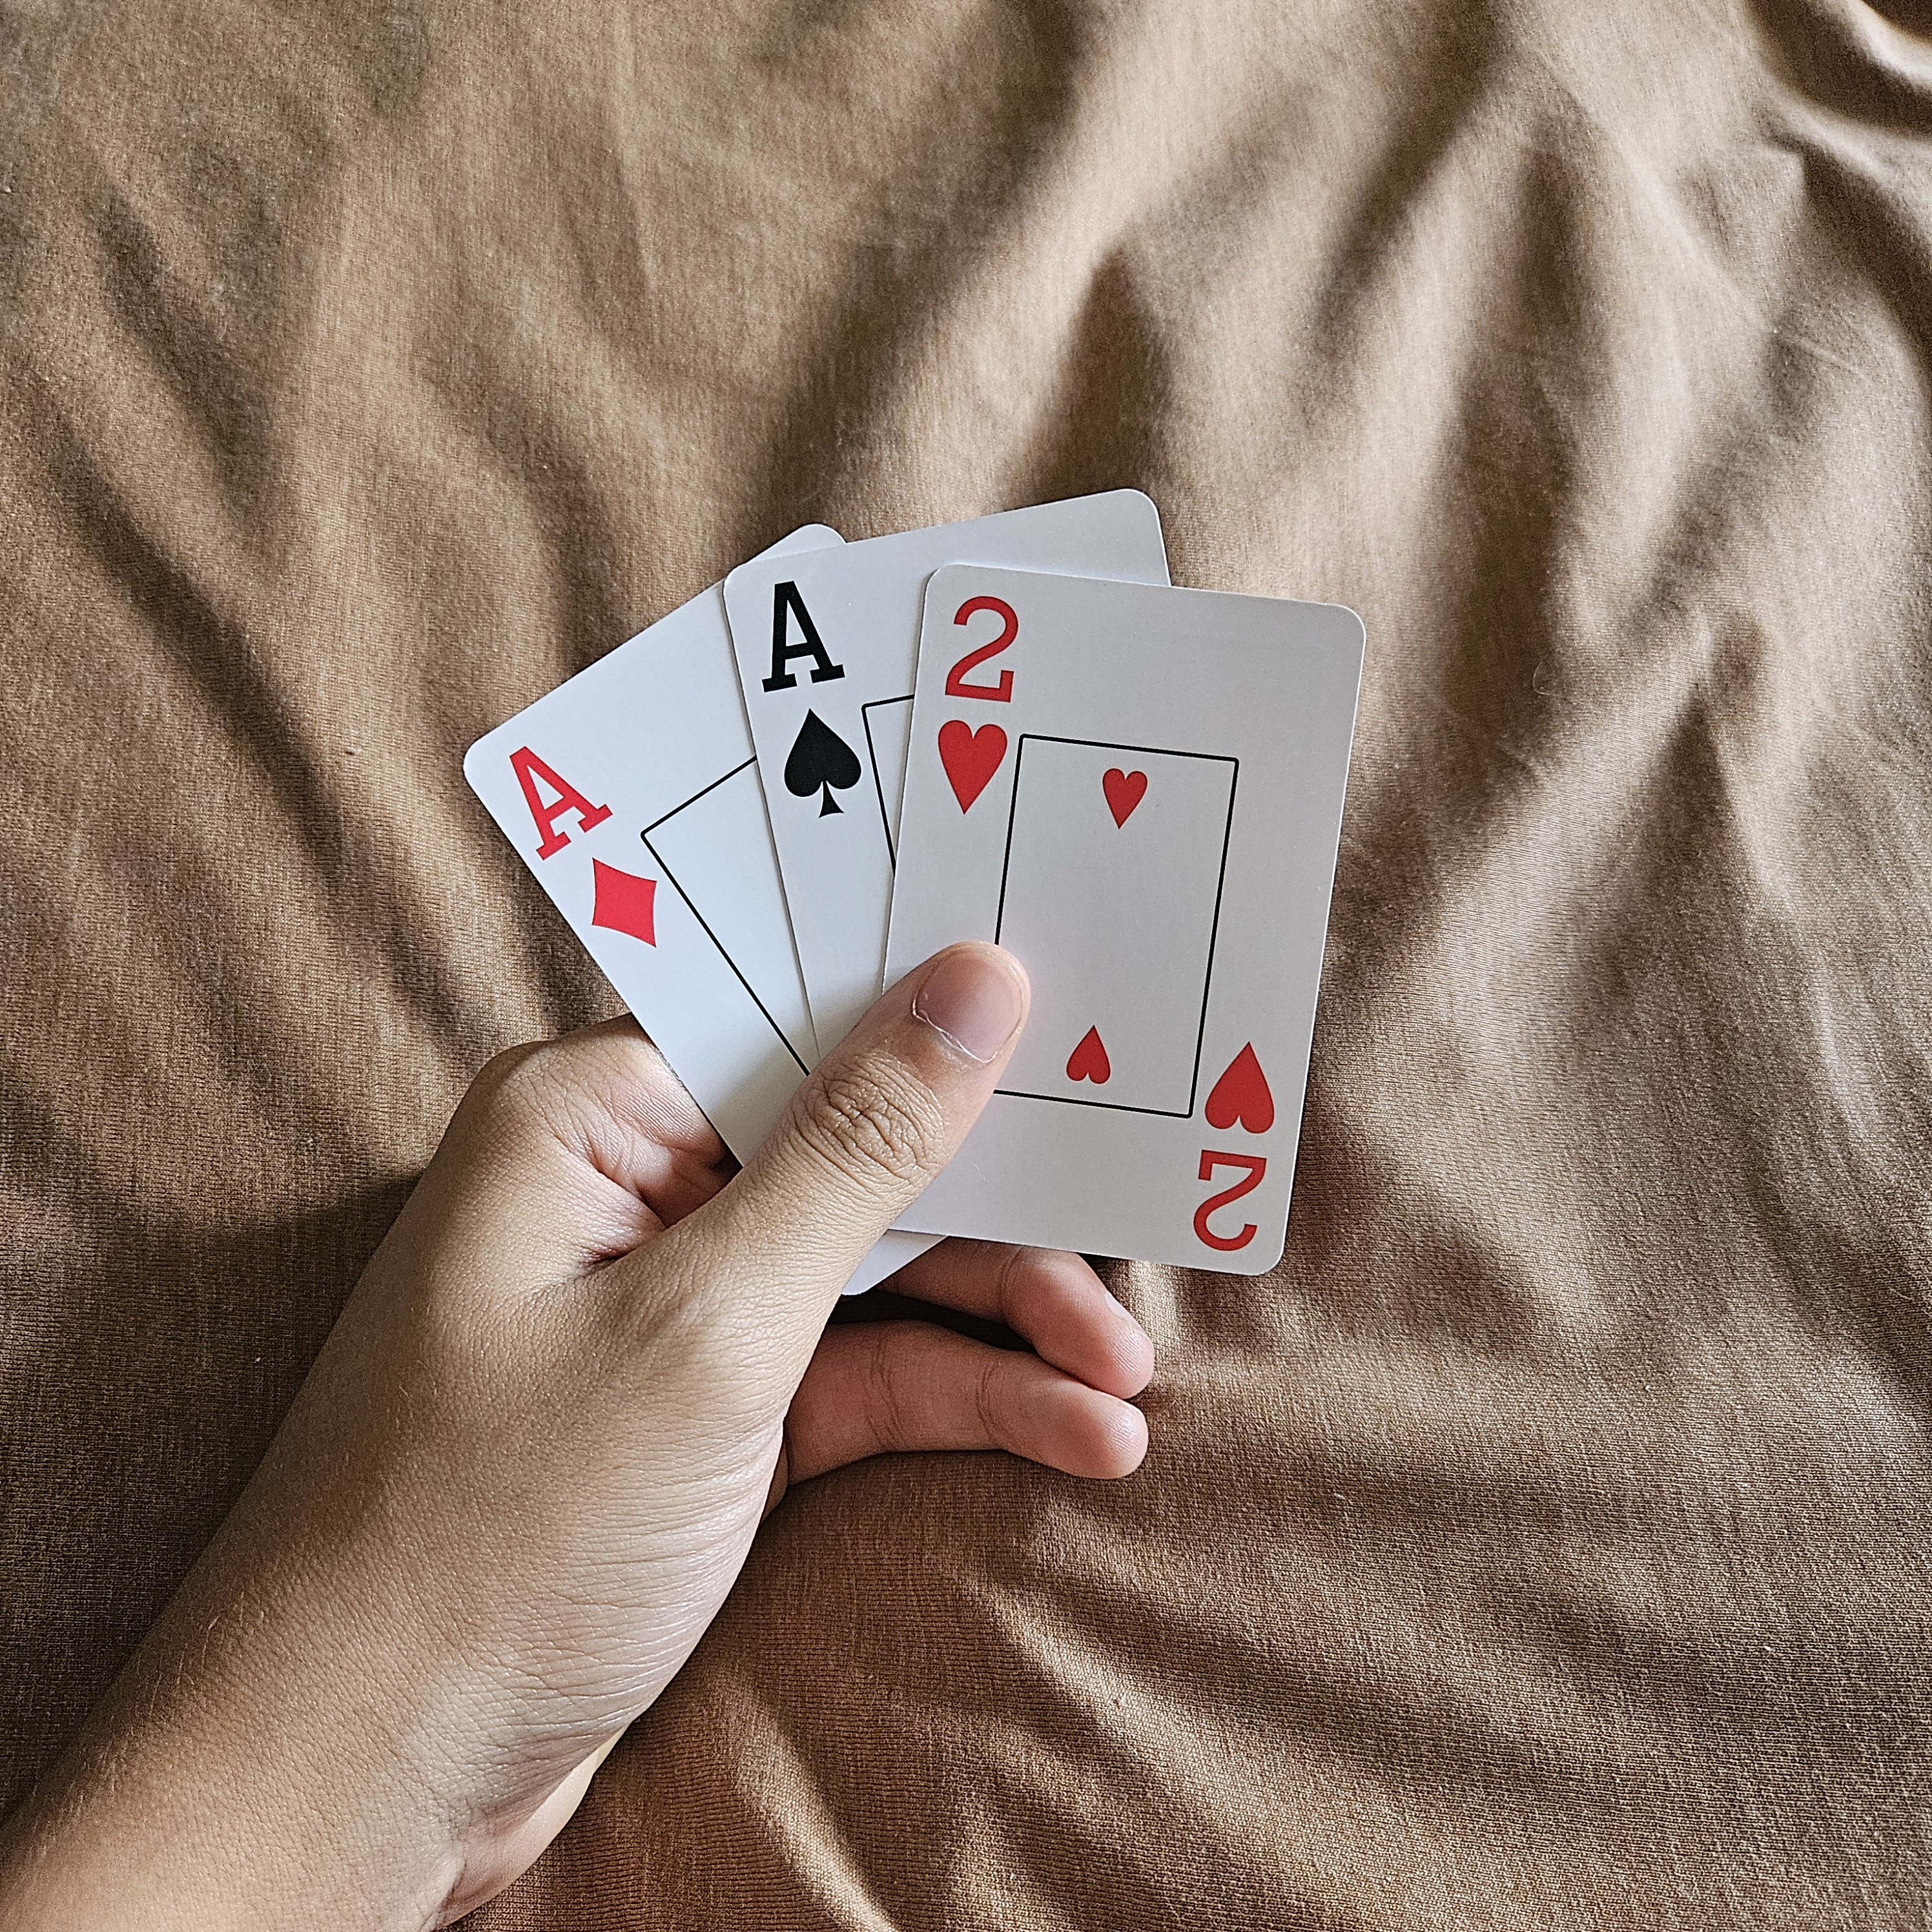2C: (924, 568, 1035, 824), (1180, 1028, 1292, 1258)
AE: (741, 561, 893, 832)
AO: (479, 724, 702, 973)
